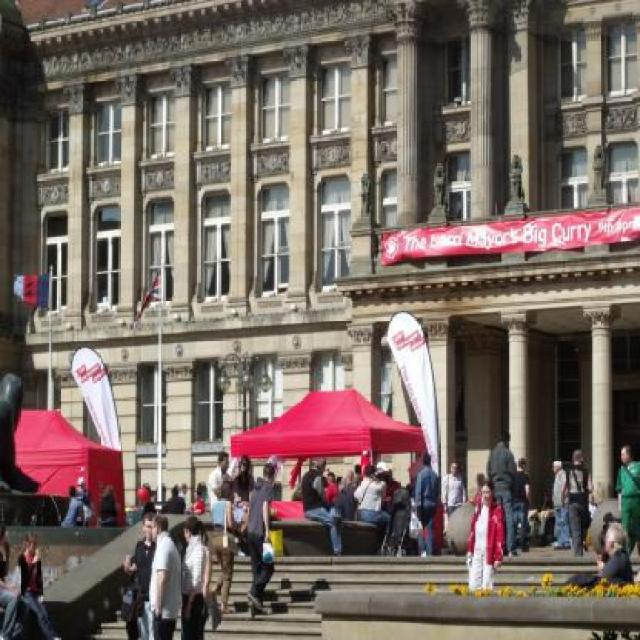Person: (62, 428, 570, 552), (471, 473, 512, 592), (18, 532, 62, 638), (125, 504, 158, 638), (249, 460, 276, 615), (558, 450, 593, 558), (209, 477, 236, 614), (150, 512, 178, 639), (183, 516, 208, 639), (0, 523, 26, 639), (596, 520, 636, 592), (614, 445, 638, 557), (201, 519, 214, 639), (600, 511, 612, 554)
